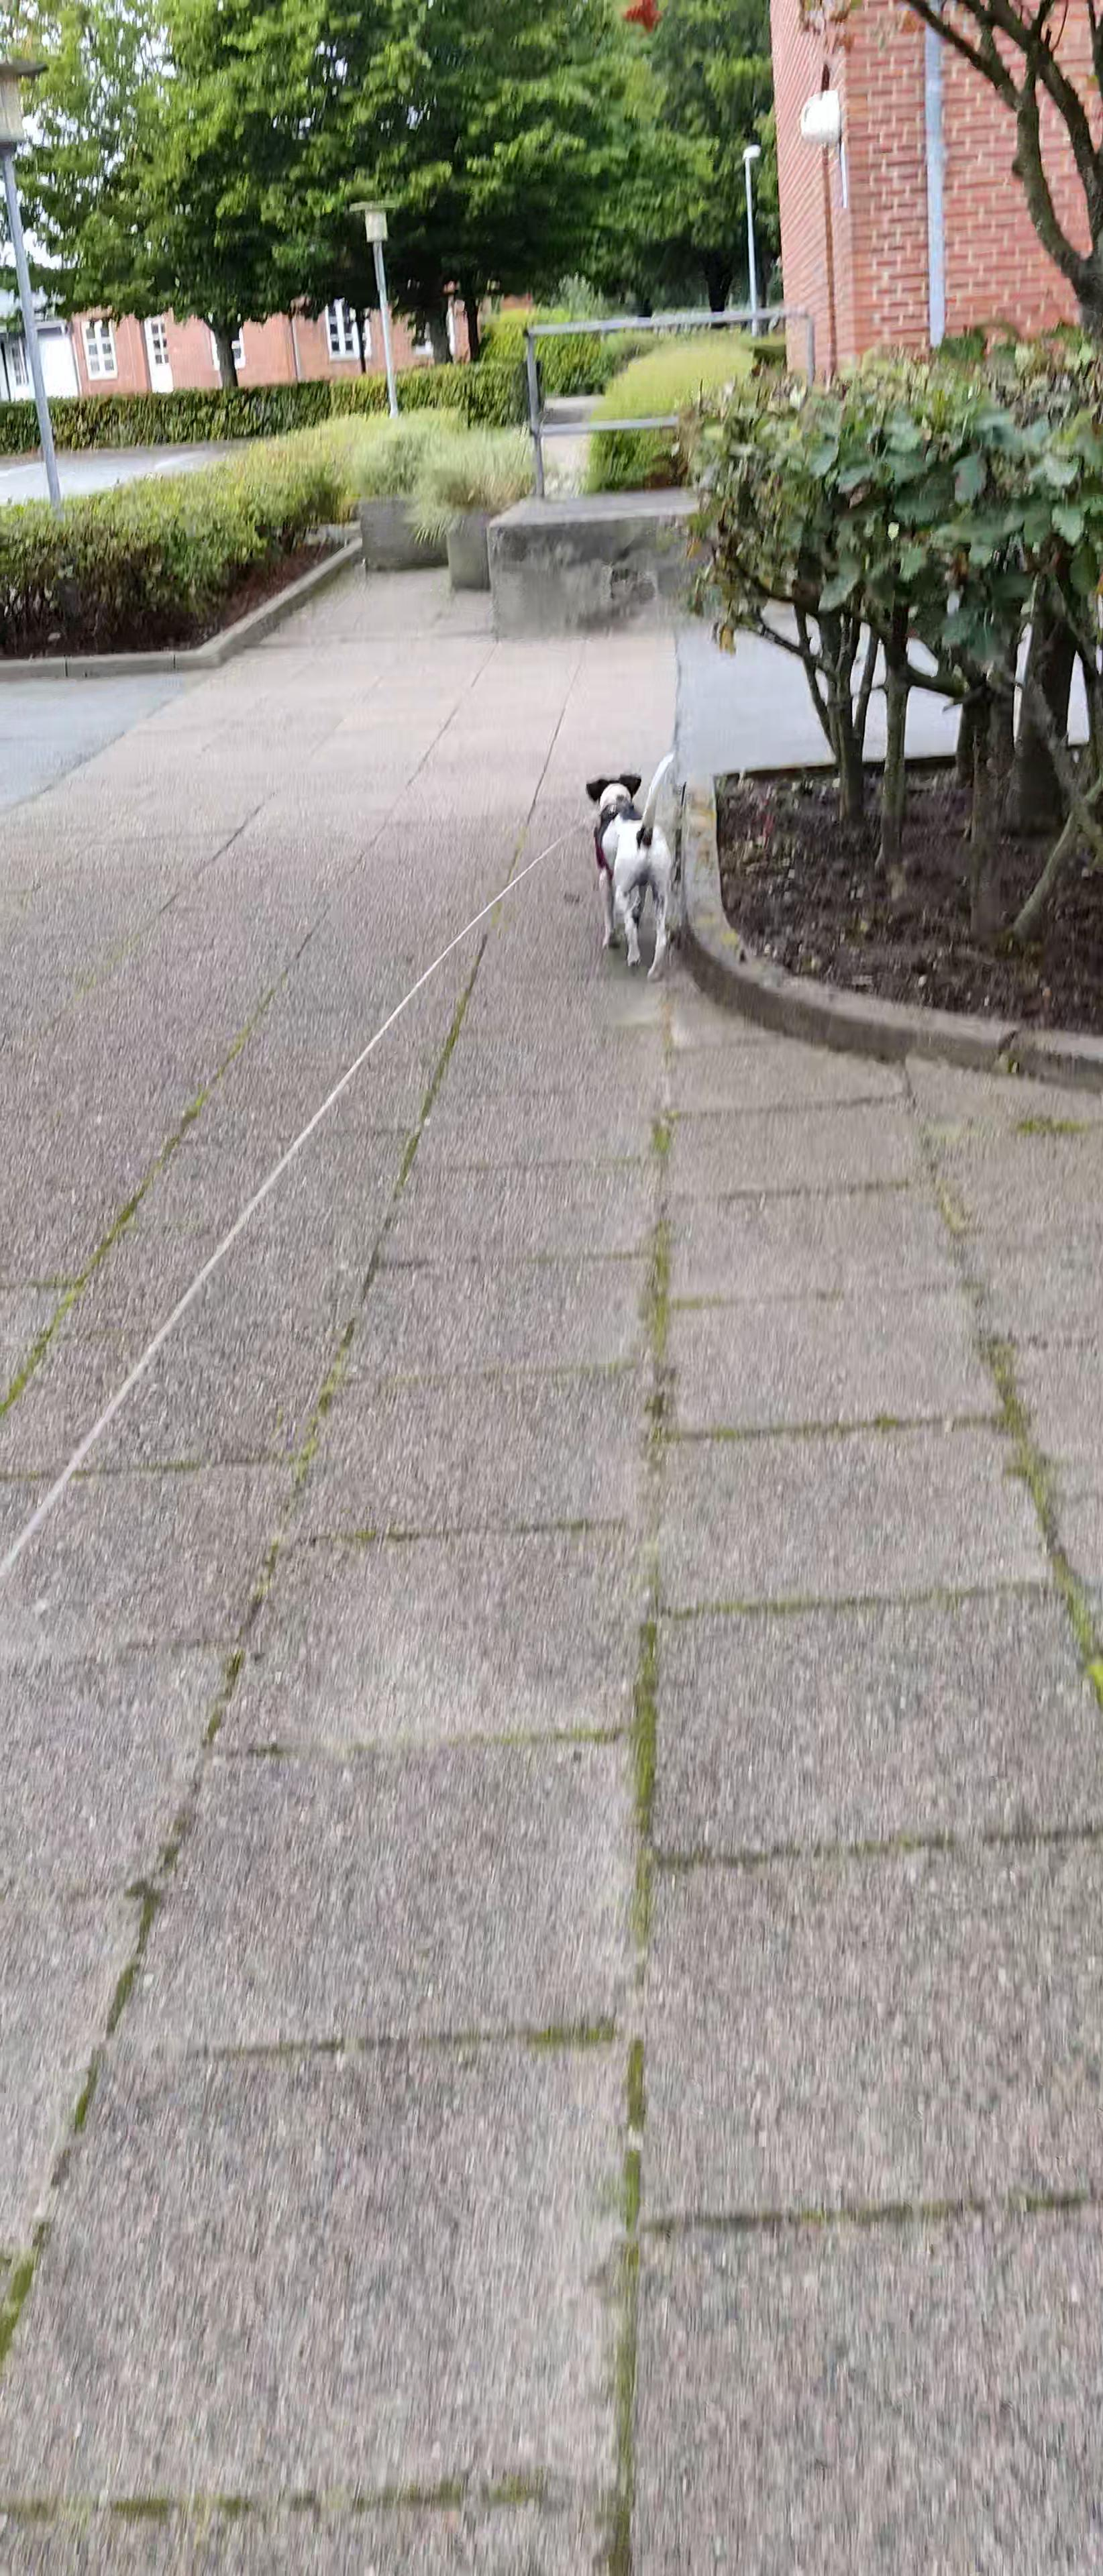Dog: (580, 749, 684, 987)
